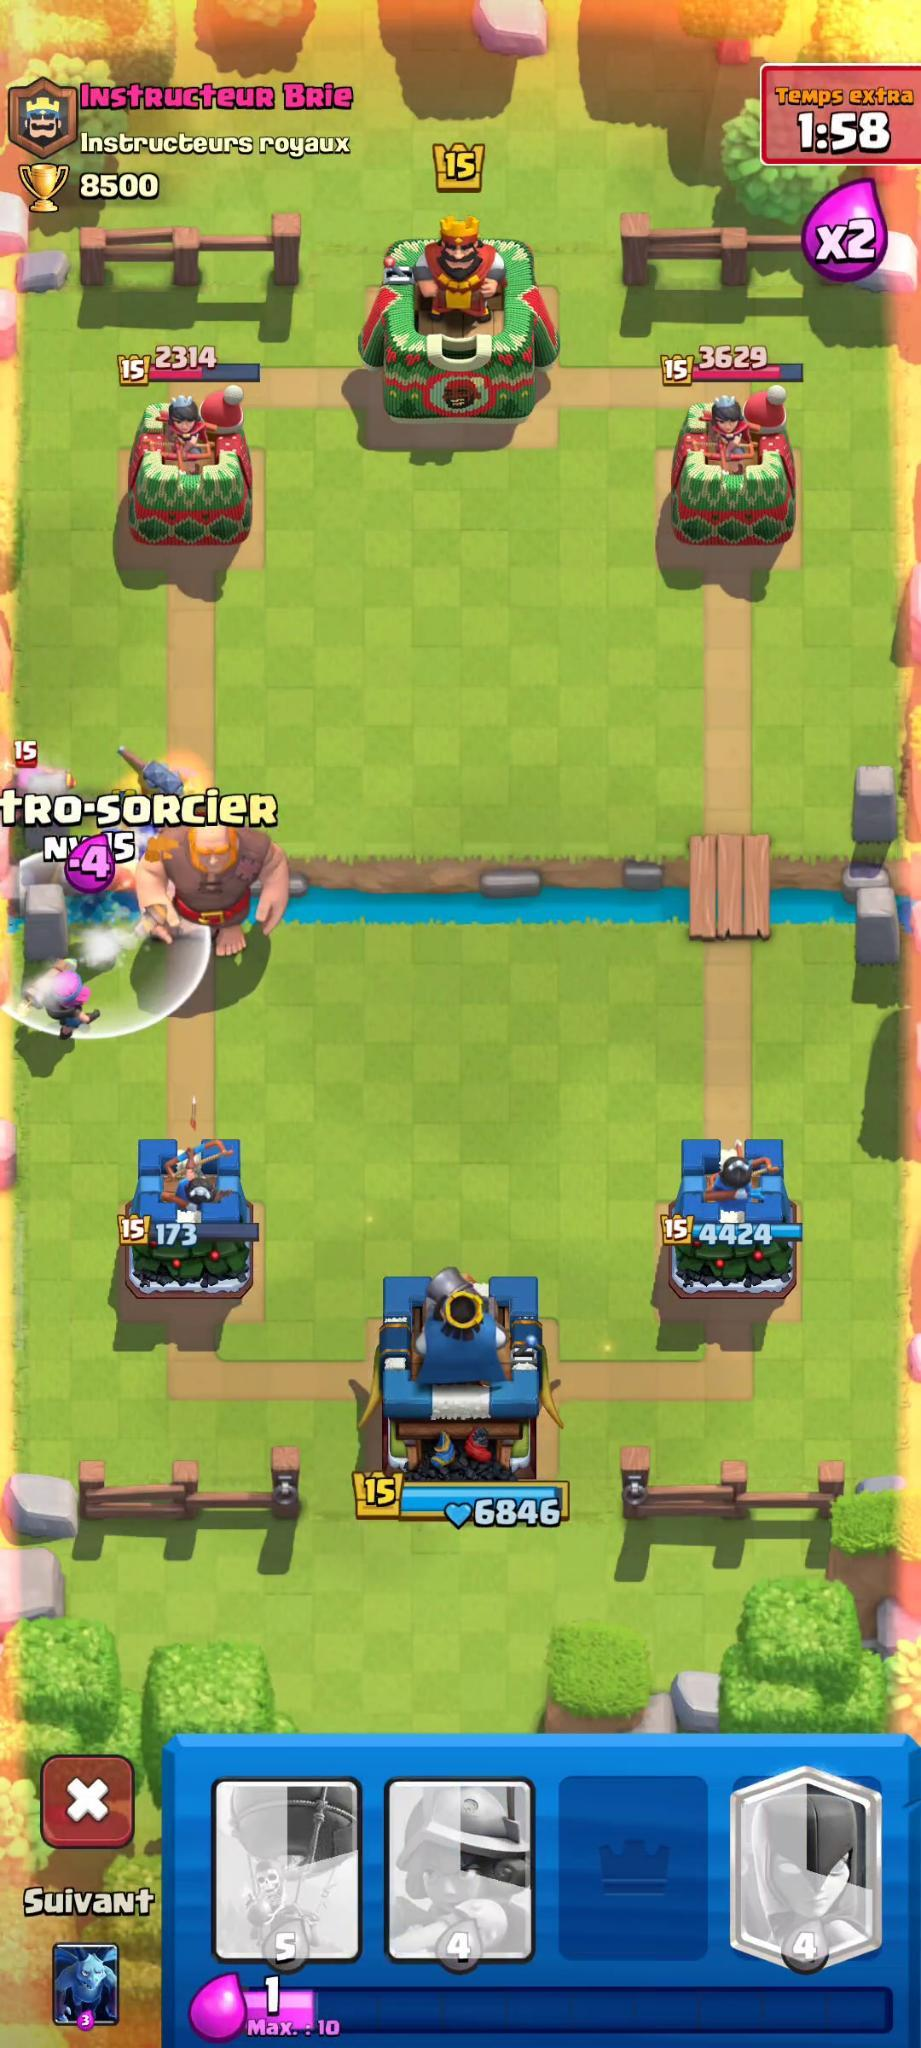enemy_giant: (138, 814, 292, 964)
player_firecraker: (24, 948, 103, 1041)
